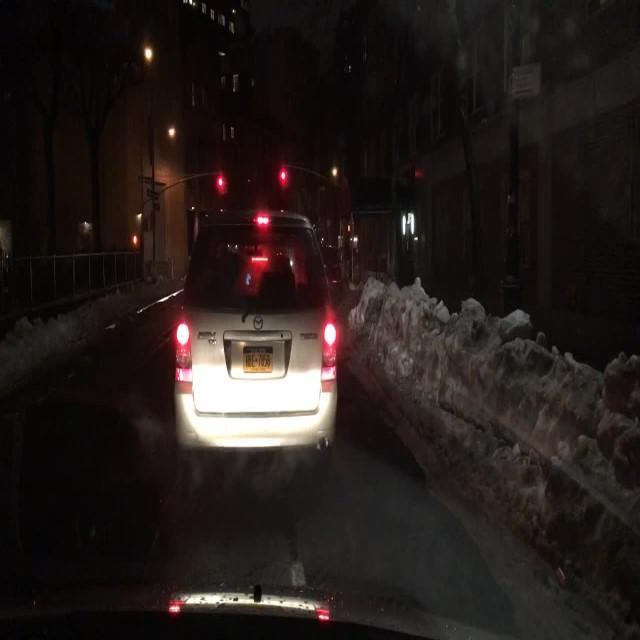normal: (125, 176, 389, 522)
